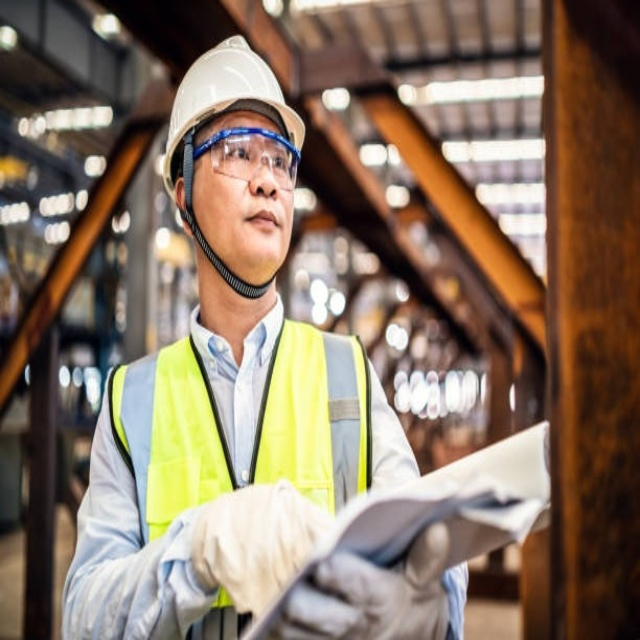Gafas: (194, 131, 302, 194)
Guantes: (272, 511, 457, 637), (188, 478, 332, 614)
Sin_mascara: (234, 199, 285, 260)
